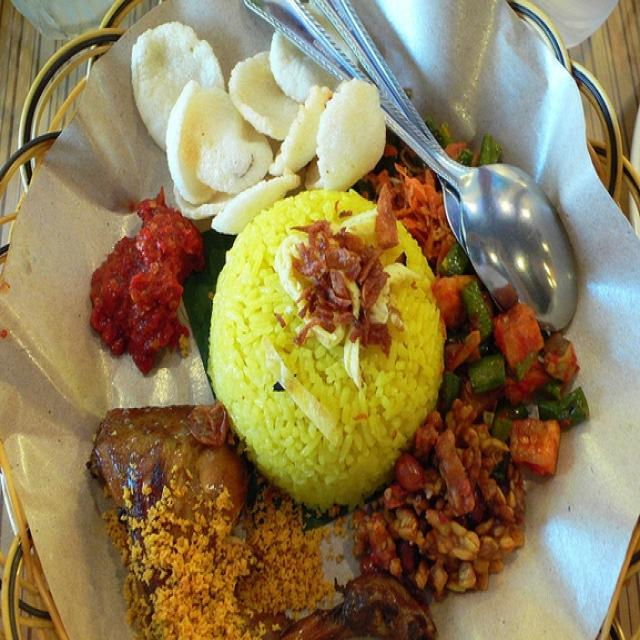米饭主食: (46, 21, 591, 634)
